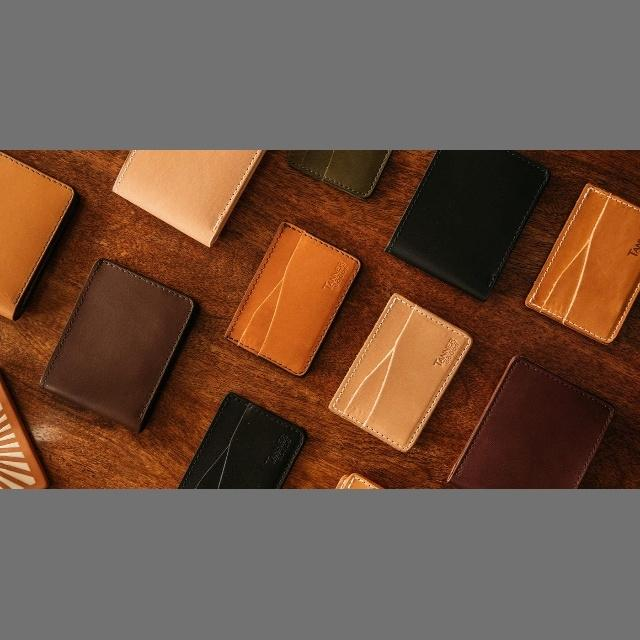Wallet: (42, 253, 200, 422), (442, 345, 634, 483), (330, 284, 480, 444), (378, 154, 546, 294), (524, 174, 640, 340), (242, 214, 354, 376), (164, 406, 316, 490)
